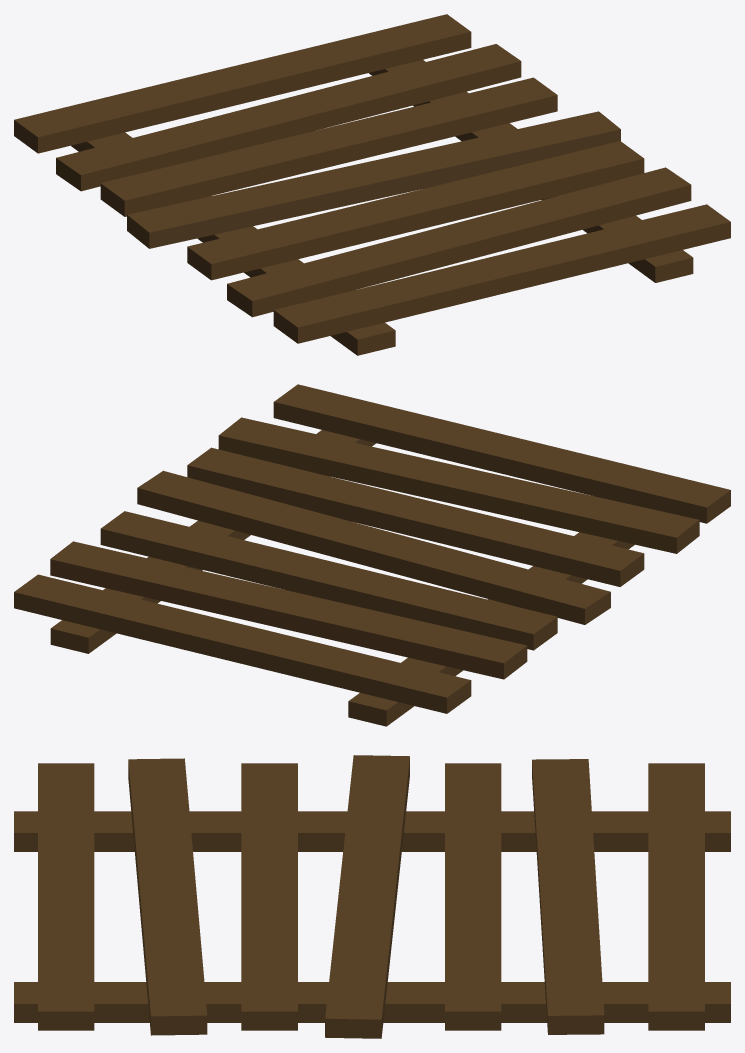
Rendered from Palet.fbx.
The picture shows the model from 3 angles, top to bottom: view 1: azimuth 30°, elevation 25°; view 2: azimuth 150°, elevation 25°; view 3: azimuth 270°, elevation 25°; orthographic projection. The views are drawn at different scales.
Visible parts, largest first — view 1: Palet.001; view 2: Palet.001; view 3: Palet.001.
Part boxes in pixels (left/top/right/bottom): Palet.001: left=14, top=14, right=730, bottom=355; Palet.001: left=14, top=384, right=730, bottom=726; Palet.001: left=14, top=755, right=730, bottom=1038.
Size of the model in its own units: 179 by 12.19 by 205.
1 material, 1 textured.
